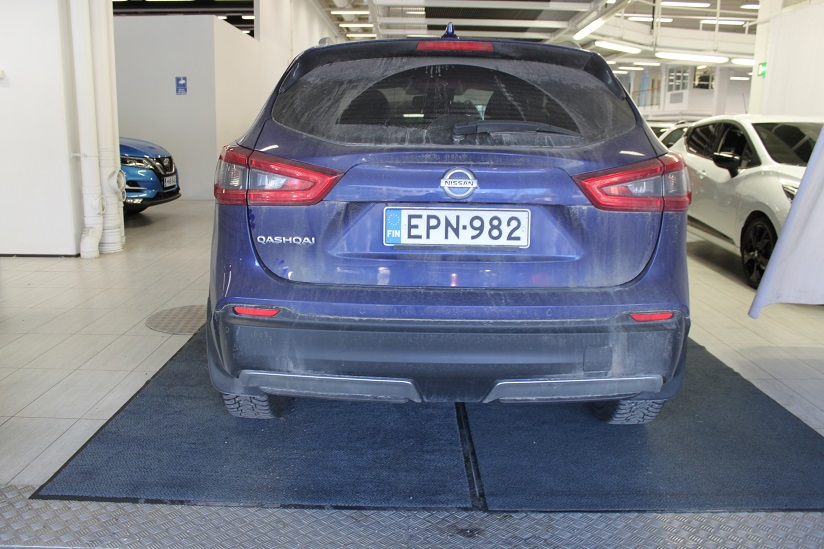license: (383, 205, 527, 249)
